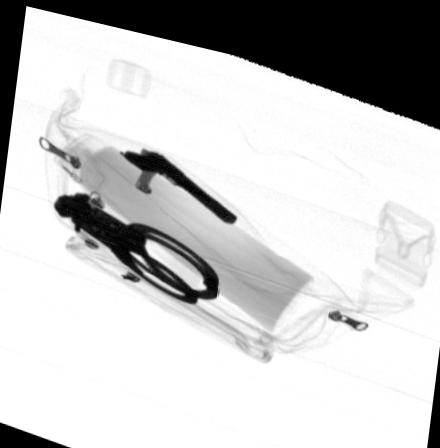Gun: (118, 144, 238, 214)
HandCuffs: (50, 186, 222, 300)
